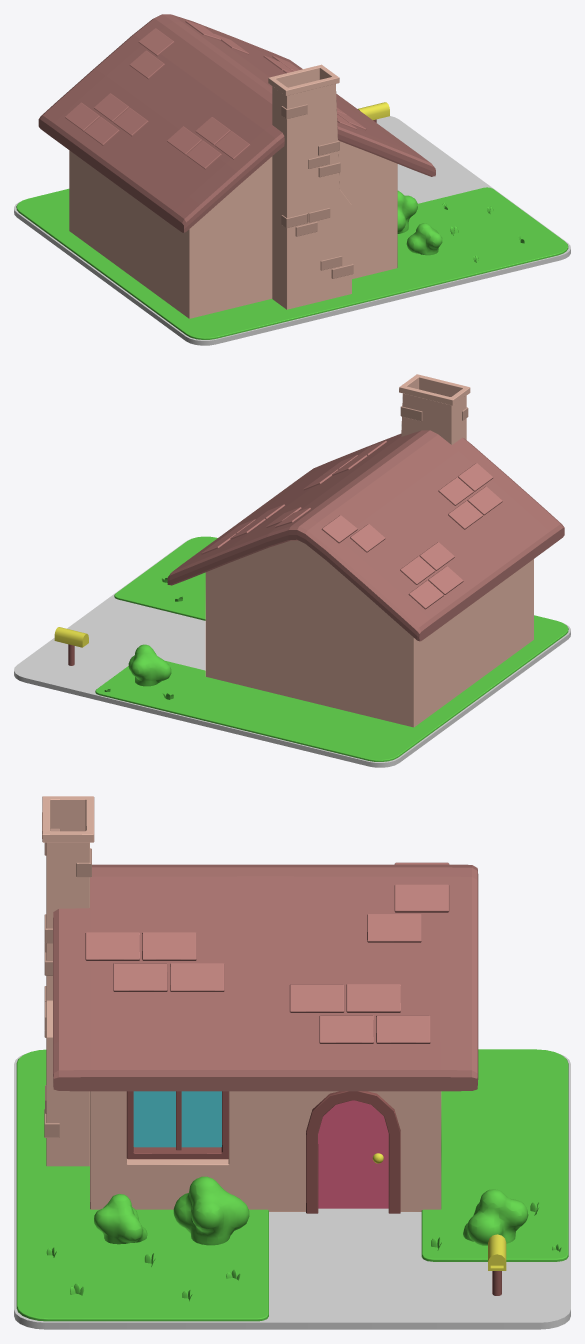
Rendered from house1.glb.
3 renders of one model, top to bottom at view 1: azimuth 30°, elevation 25°; view 2: azimuth 150°, elevation 25°; view 3: azimuth 270°, elevation 25°, orthographic. The views are drawn at different scales.
Visible parts, largest first — view 1: 002Roof_17, 001House_16, 010Grass_25, 008Chimney_23, 009Ground_24, Mball030_5, Plane005_58, Plane008_61, Plane004_57, Plane002_55, Plane007_60, Plane_53 (+4 smaller); view 2: 001House_16, 002Roof_17, 010Grass_25, 009Ground_24, 008Chimney_23, Mball030_5, Plane005_58, Plane001_54, Plane004_57, Plane007_60, Plane009_62, Plane008_61 (+5 smaller); view 3: 002Roof_17, 010Grass_25, 009Ground_24, 001House_16, 008Chimney_23, Mball030_5, 004Door_19, 003DoorFrame_18, 006WindowPanel_21, Plane005_58, Plane003_56, Plane002_55 (+8 smaller).
Boxes of the visible parts, <box> form: 002Roof_17: <box>38,14,435,232</box>; 001House_16: <box>69,141,397,318</box>; 010Grass_25: <box>16,187,568,339</box>; 008Chimney_23: <box>268,64,351,309</box>; 009Ground_24: <box>14,116,570,345</box>; Mball030_5: <box>397,190,442,255</box>; Plane005_58: <box>138,20,220,56</box>; Plane008_61: <box>129,34,248,79</box>; Plane004_57: <box>94,55,293,121</box>; Plane002_55: <box>186,111,365,169</box>; Plane007_60: <box>65,55,299,131</box>; Plane_53: <box>215,114,356,159</box>; 001House_16: <box>205,540,533,727</box>; 002Roof_17: <box>167,430,564,641</box>; 010Grass_25: <box>95,536,568,761</box>; 009Ground_24: <box>14,539,570,767</box>; 008Chimney_23: <box>399,374,470,444</box>; Mball030_5: <box>128,644,171,686</box>; Plane005_58: <box>275,507,357,543</box>; Plane001_54: <box>332,455,473,505</box>; Plane004_57: <box>230,518,435,584</box>; Plane007_60: <box>201,533,443,609</box>; Plane009_62: <box>303,469,483,529</box>; Plane008_61: <box>266,507,385,552</box>; 002Roof_17: <box>53,864,478,1091</box>; 010Grass_25: <box>16,1049,568,1321</box>; 009Ground_24: <box>14,1053,570,1329</box>; 001House_16: <box>90,1091,441,1211</box>; 008Chimney_23: <box>42,796,94,1166</box>; Mball030_5: <box>94,1176,528,1245</box>; 004Door_19: <box>318,1100,388,1208</box>; 003DoorFrame_18: <box>306,1091,400,1213</box>; 006WindowPanel_21: <box>126,1091,228,1159</box>; Plane005_58: <box>394,862,449,912</box>; Plane003_56: <box>289,984,344,1012</box>; Plane002_55: <box>113,963,167,991</box>.
Size of the model in its own units: 12.31 by 7.17 by 10.65.
